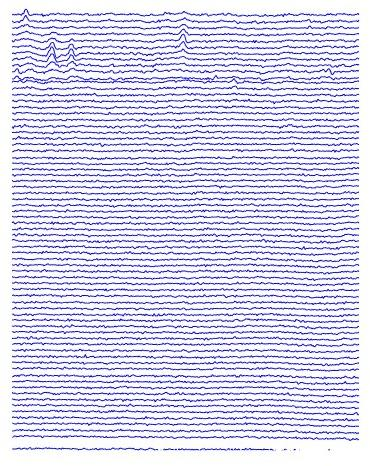defect: (171, 18, 197, 54), (46, 34, 59, 73), (65, 34, 76, 68), (19, 6, 32, 27)
